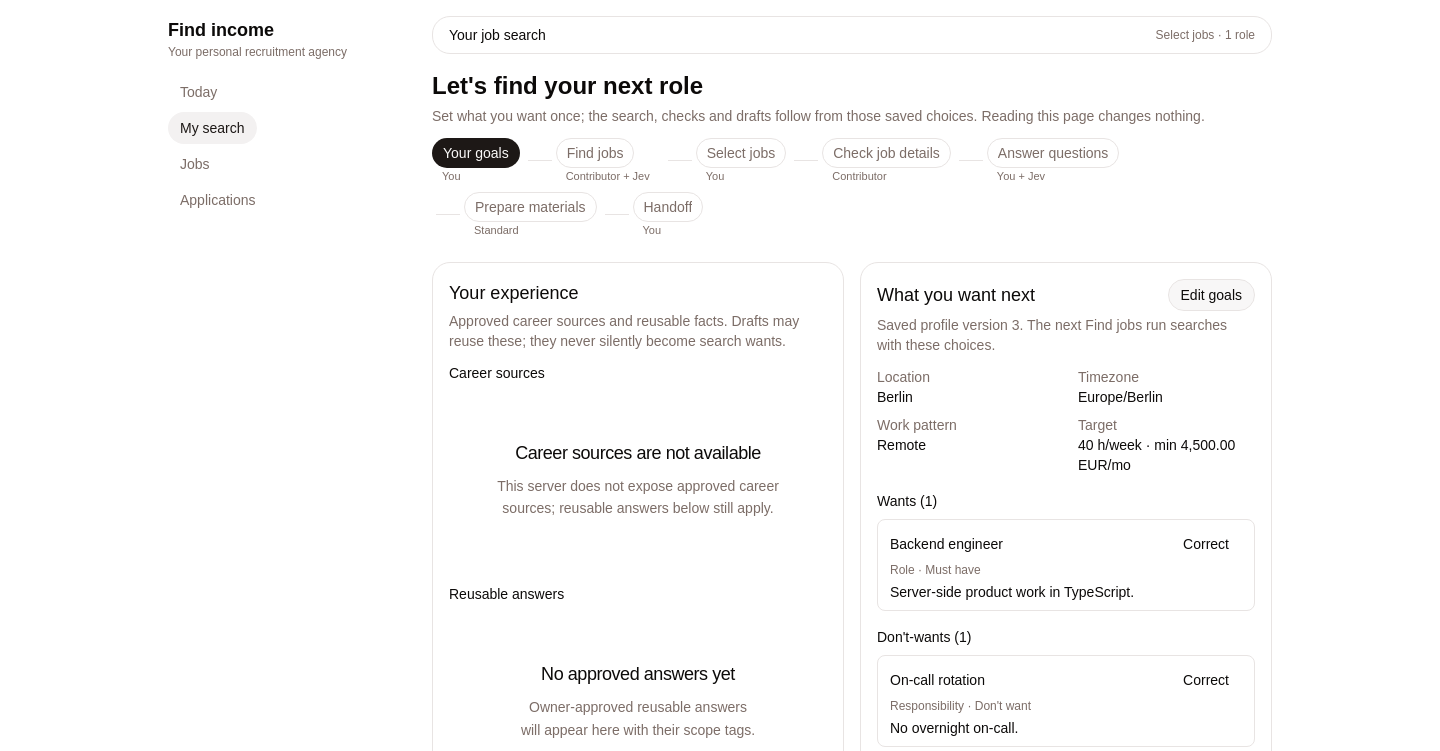
Test case: goals form and experience (B2) › saves edited choices with the loaded version
Click the button "Edit goals".
click(1211, 294)  # box [1168,278,1255,310]
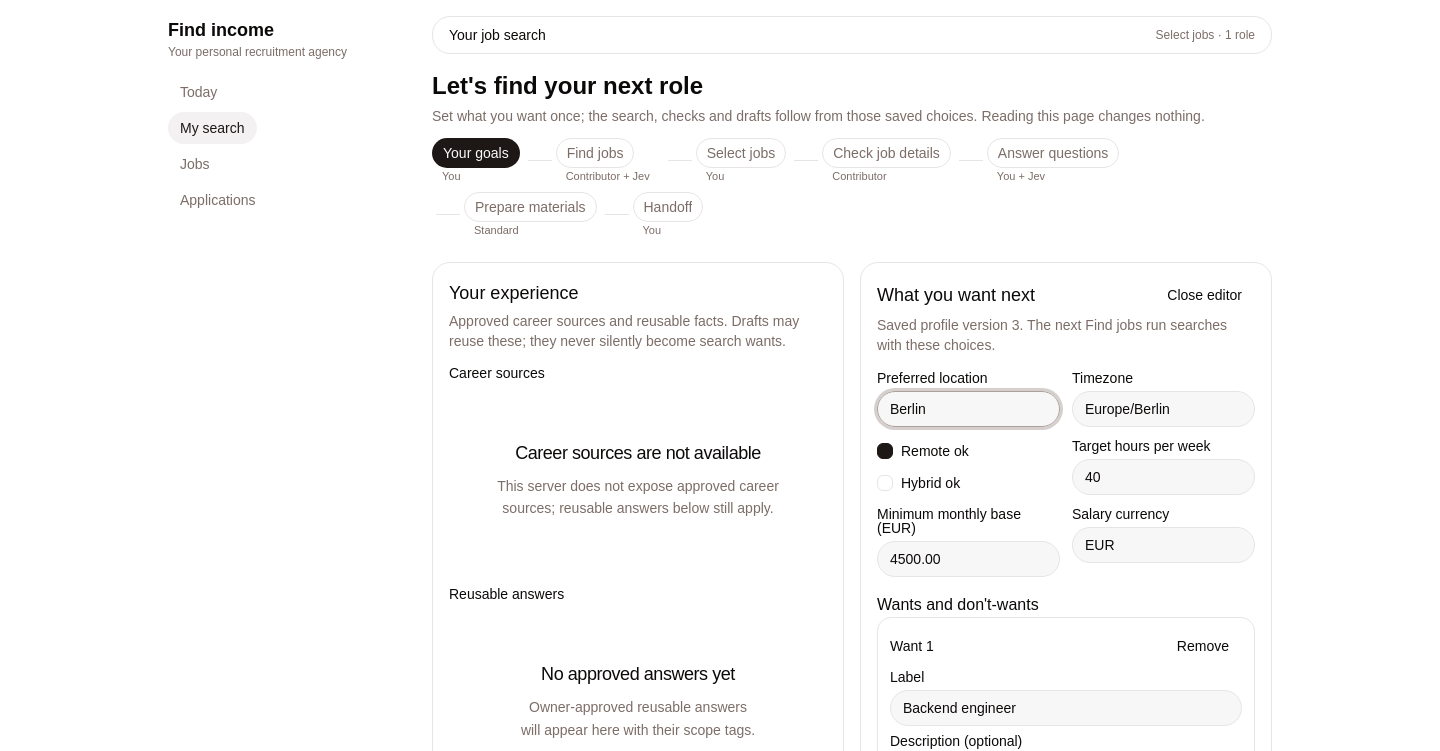
Replace the text in the field showing "Backend engineer" with "Backend engineer (Go)" at (1066, 708), box [890,690,1242,726]
(page scrolled)
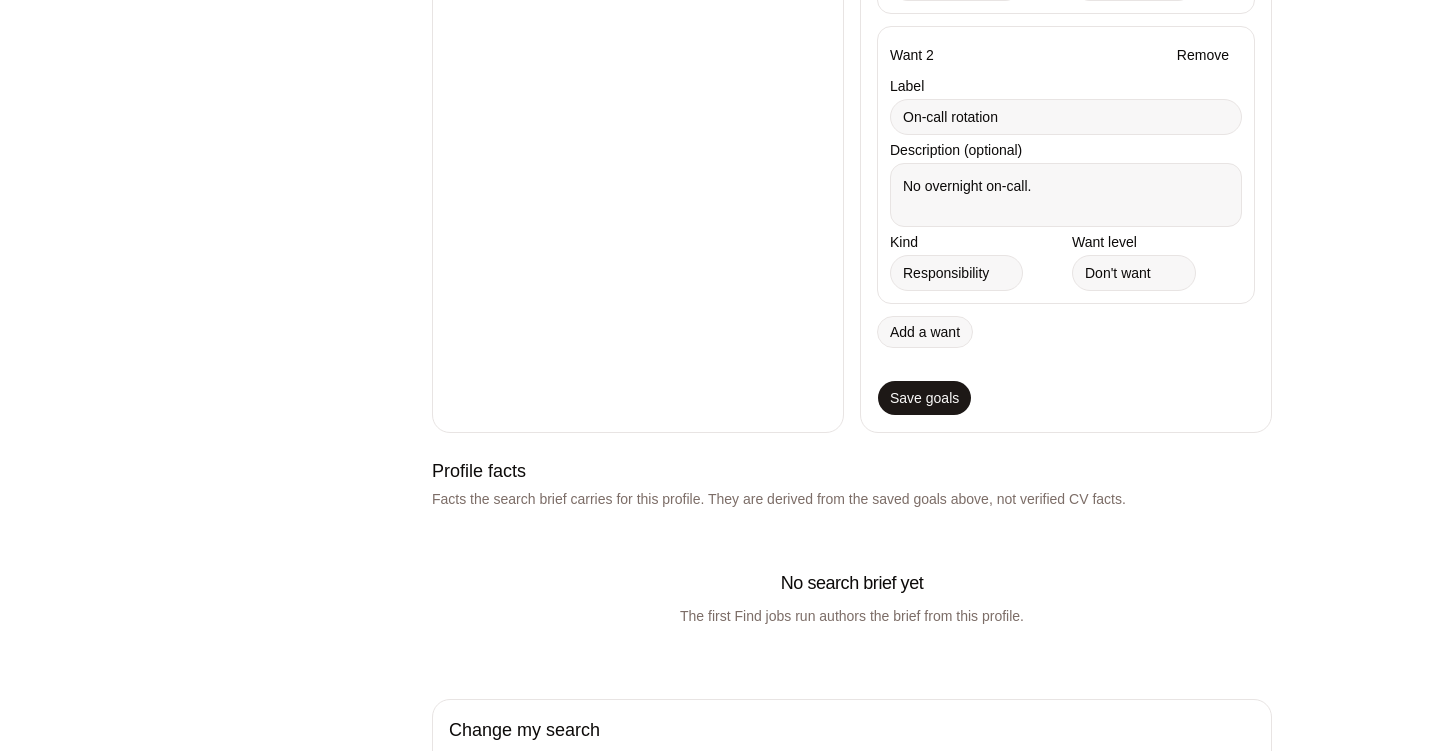
Click the button "Save goals".
click(925, 398)  # box [877,380,972,416]
(page scrolled)
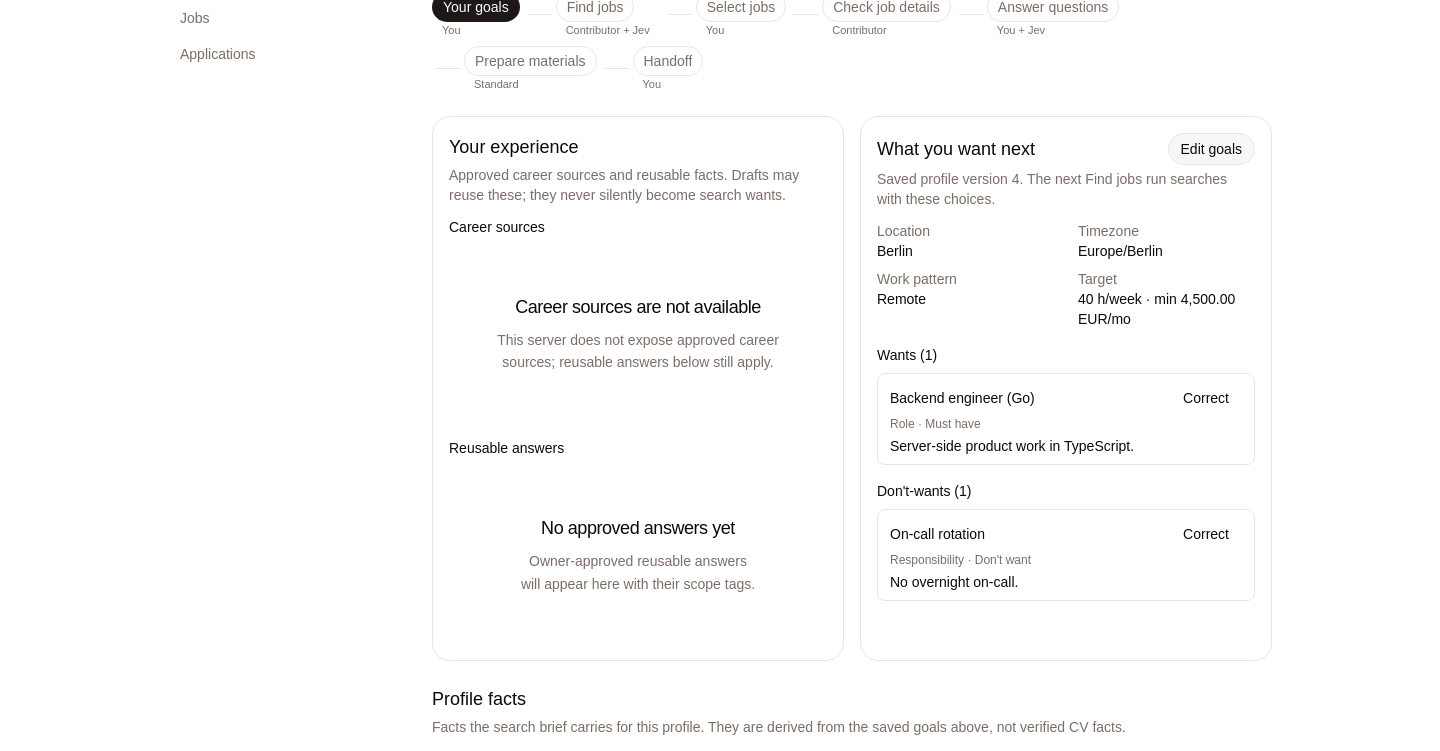
Check: the text "Saved profile version 4" is shown, box [877,168,1255,208]
Check: the text "Backend engineer (Go)" is shown, box [890,388,1035,408]
